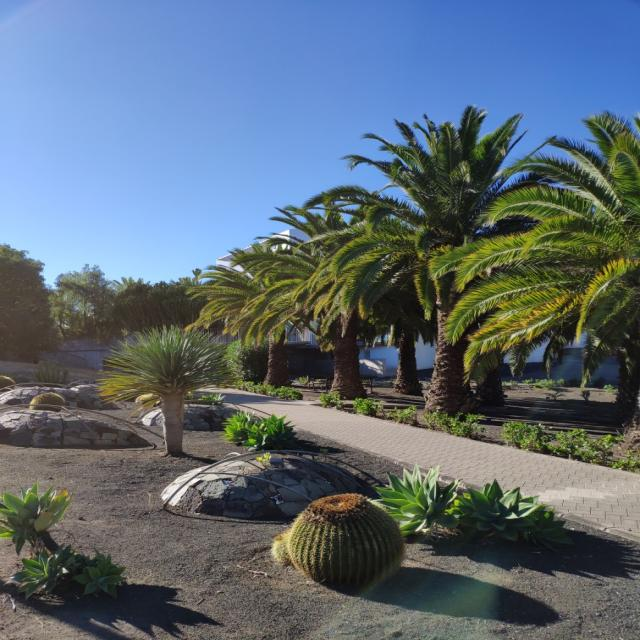Palm-Trees: (356, 103, 548, 414), (279, 195, 407, 399), (191, 240, 365, 388)
